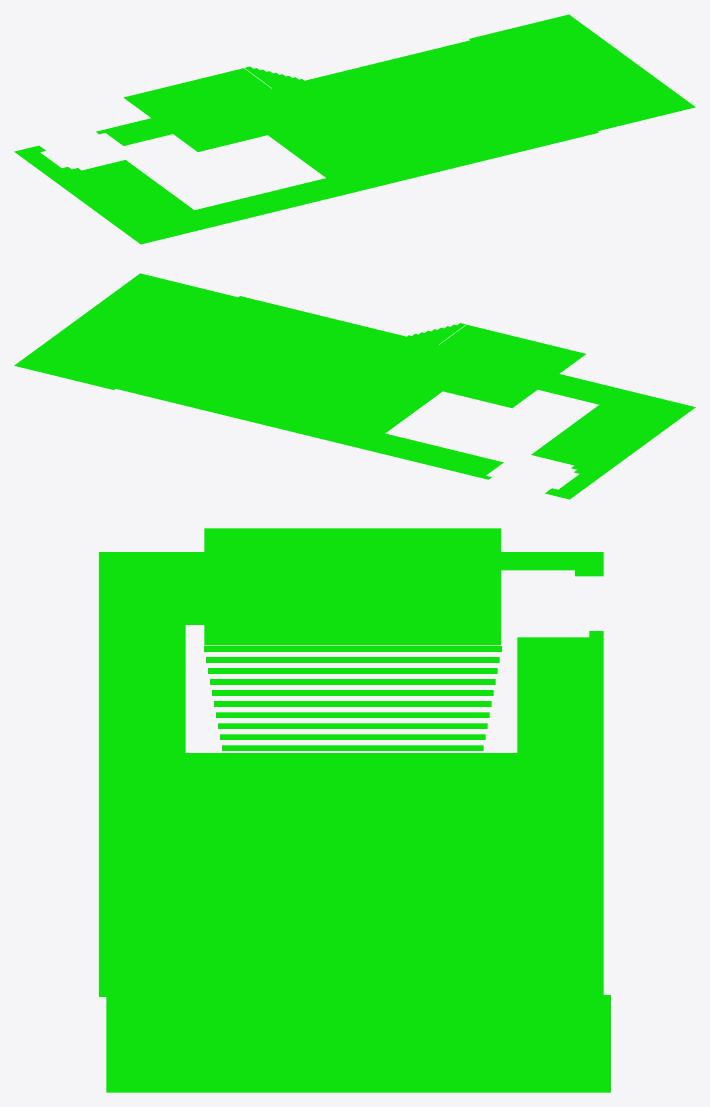
The model's file is navmesh.glb.
3 renders of one model, top to bottom at view 1: azimuth 30°, elevation 25°; view 2: azimuth 150°, elevation 25°; view 3: azimuth 270°, elevation 25°, orthographic. The views are drawn at different scales.
Parts seen in each view (by area): view 1: navmesh; view 2: navmesh; view 3: navmesh.
Boxes of the visible parts, x1=… form: navmesh: x1=14, y1=14, x2=695, y2=244; navmesh: x1=14, y1=273, x2=695, y2=499; navmesh: x1=99, y1=528, x2=610, y2=1092.
Size of the model in its own units: 44.35 by 4 by 17.75.
